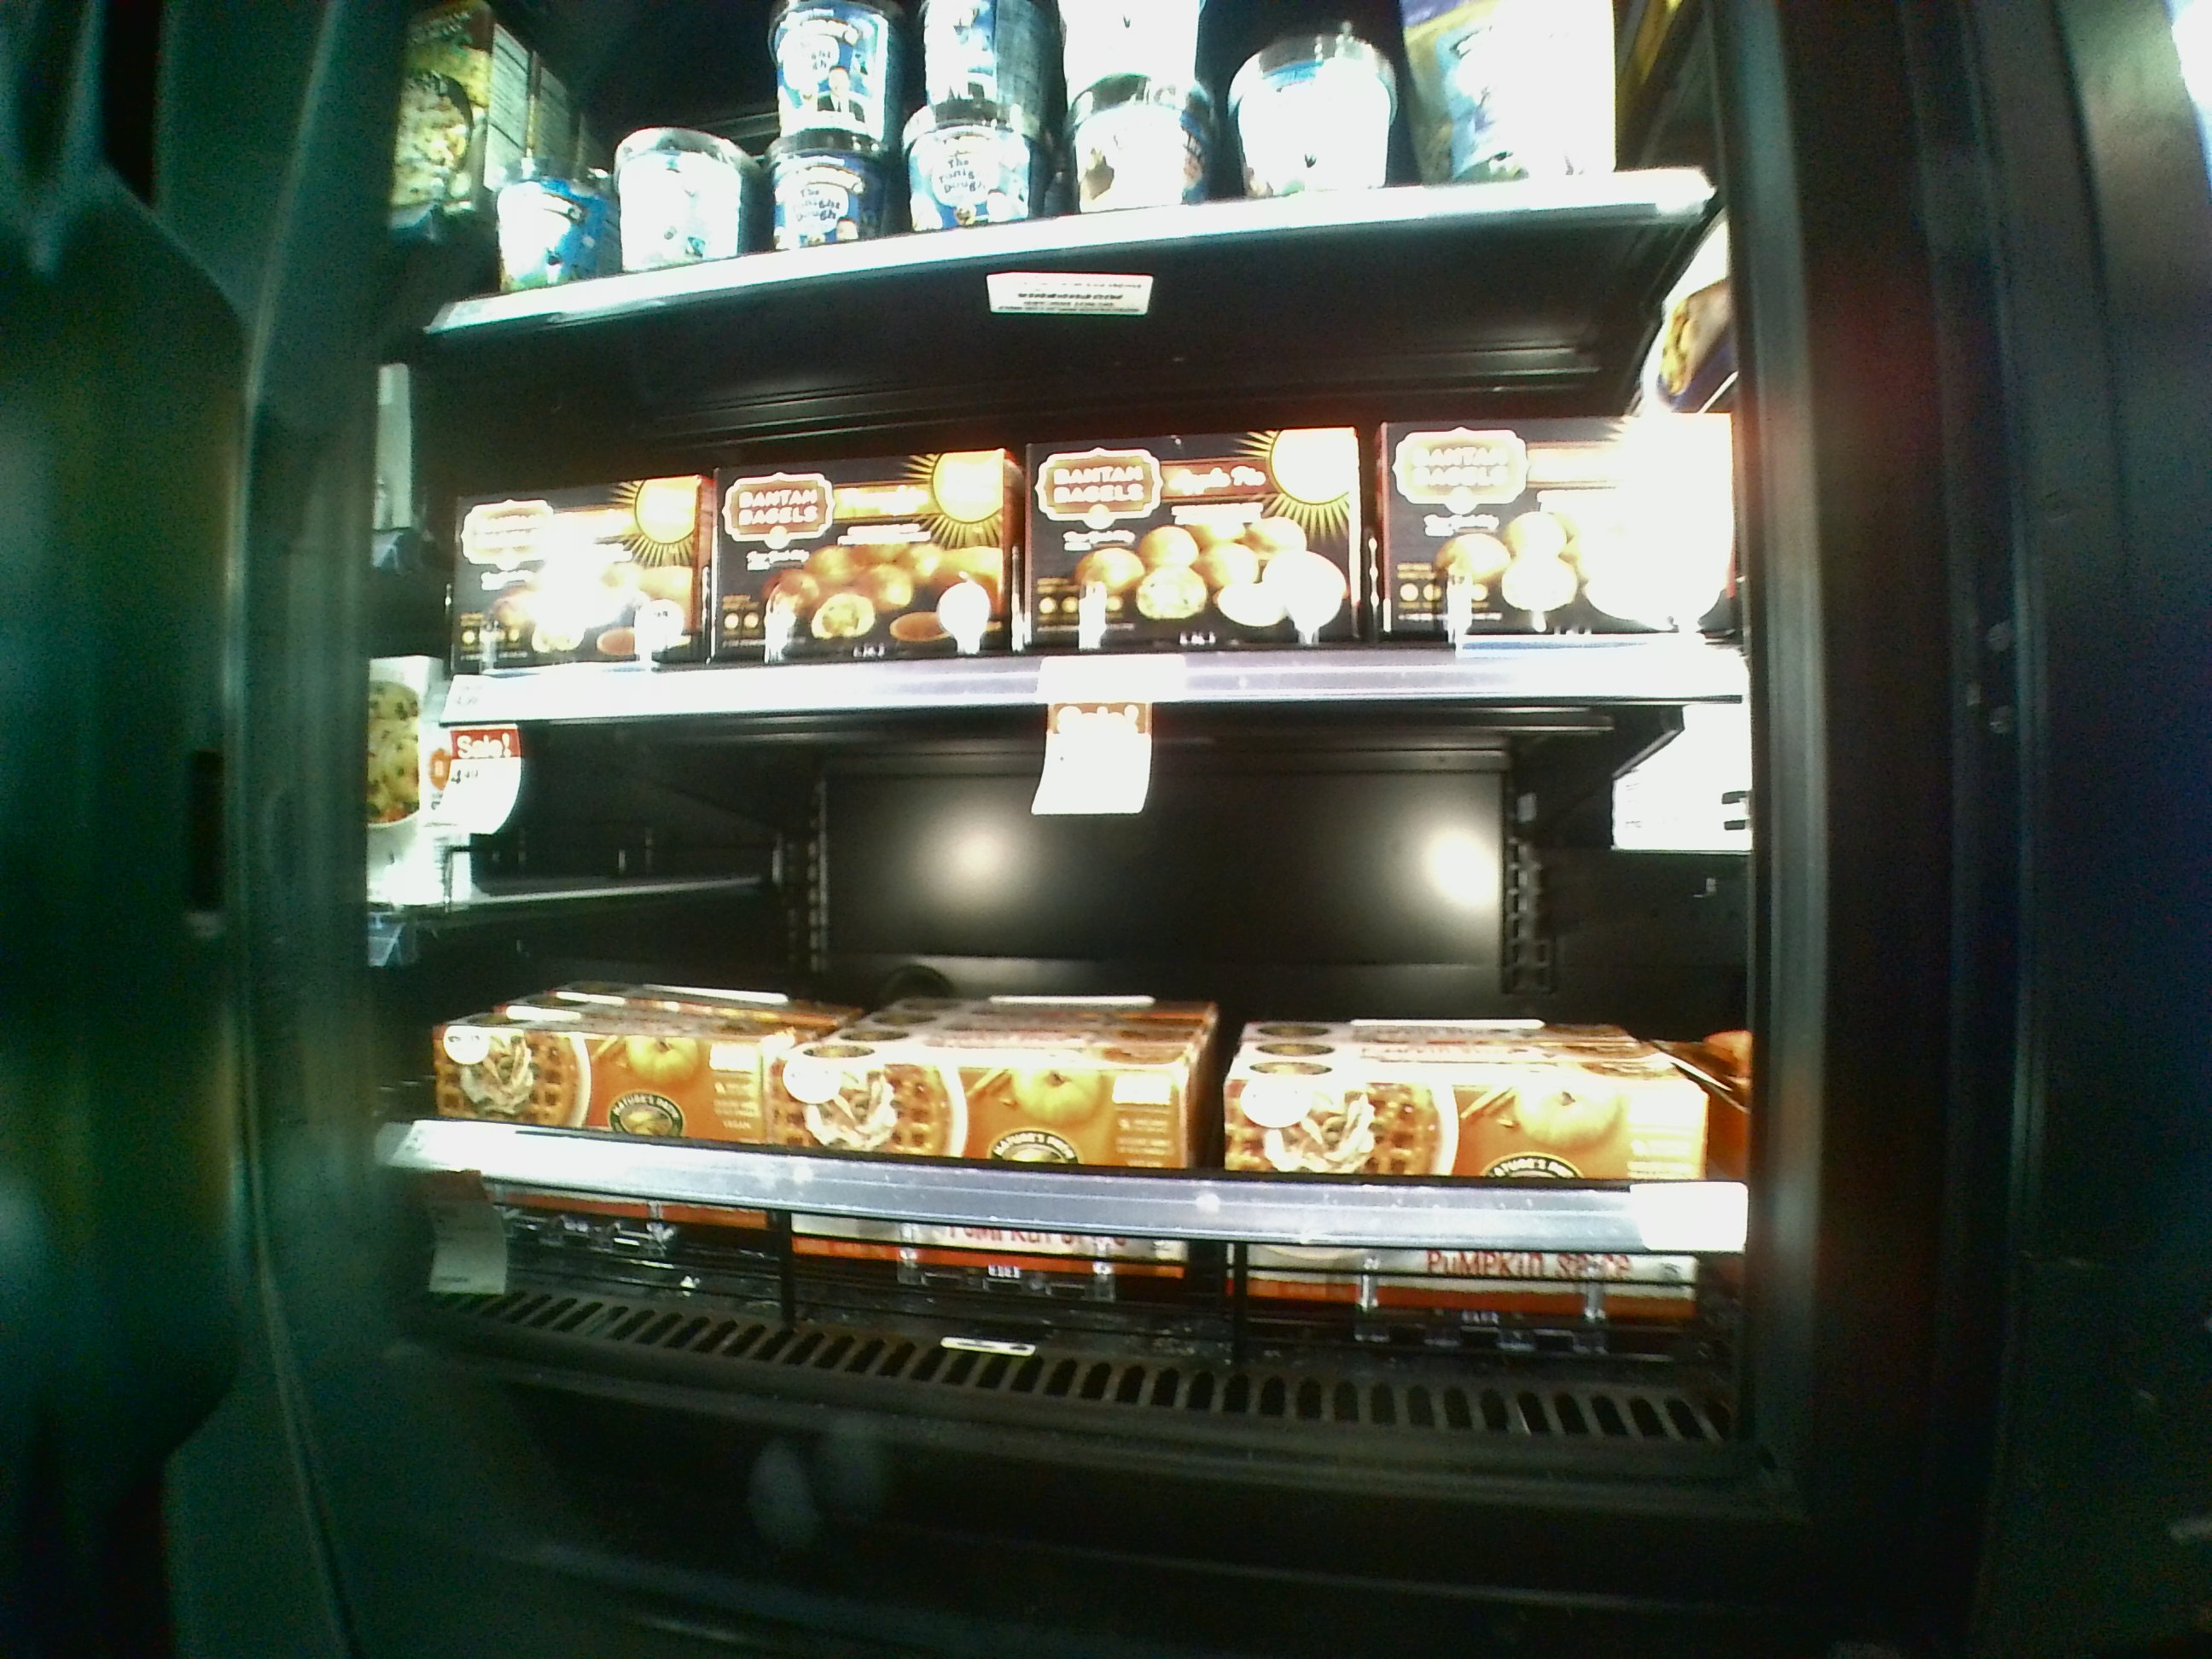shelf: (441, 669, 1749, 1391), (425, 282, 1742, 706)
